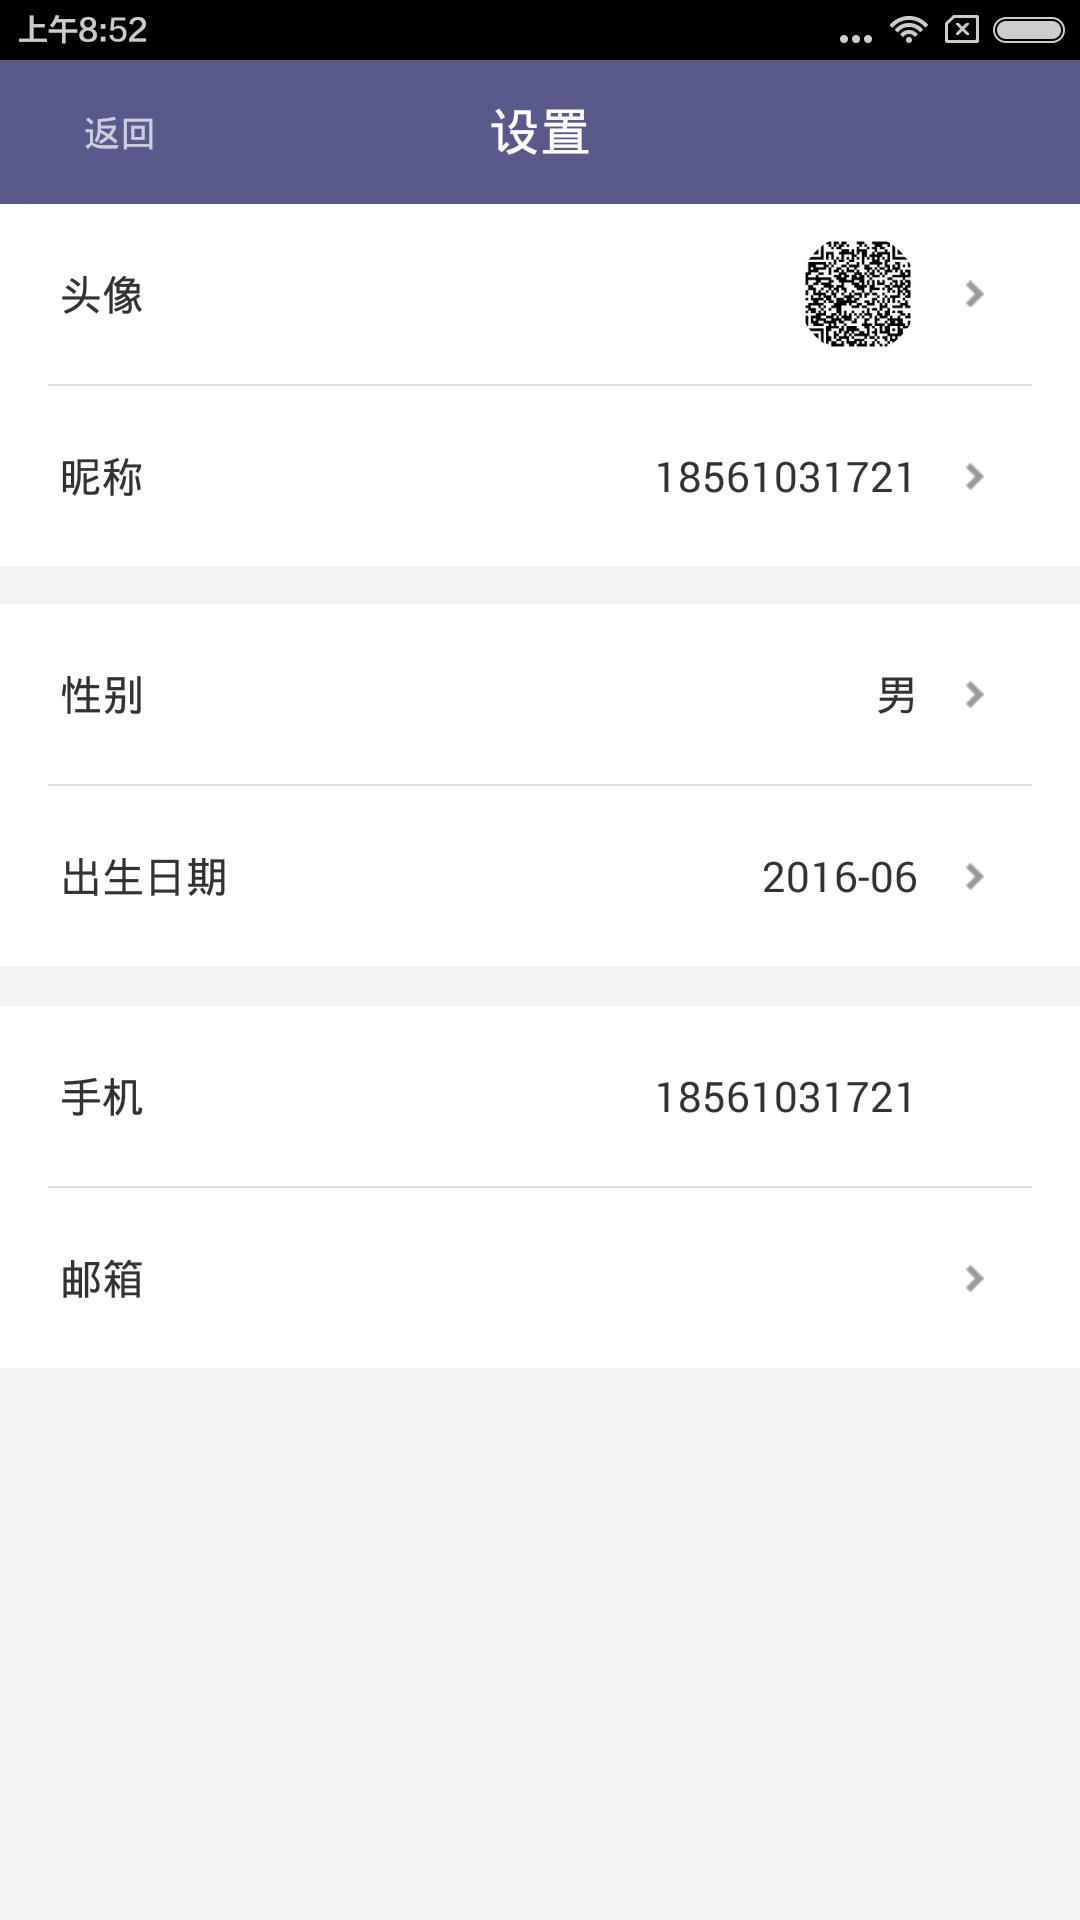textview: (1, 200, 1080, 571)
